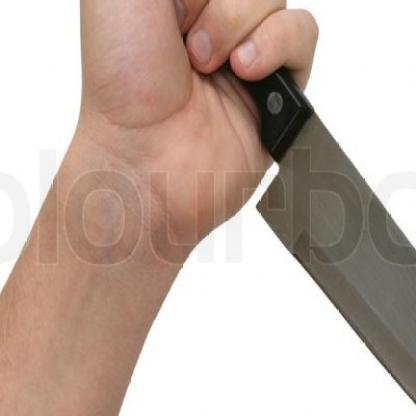knife: (150, 0, 415, 415)
